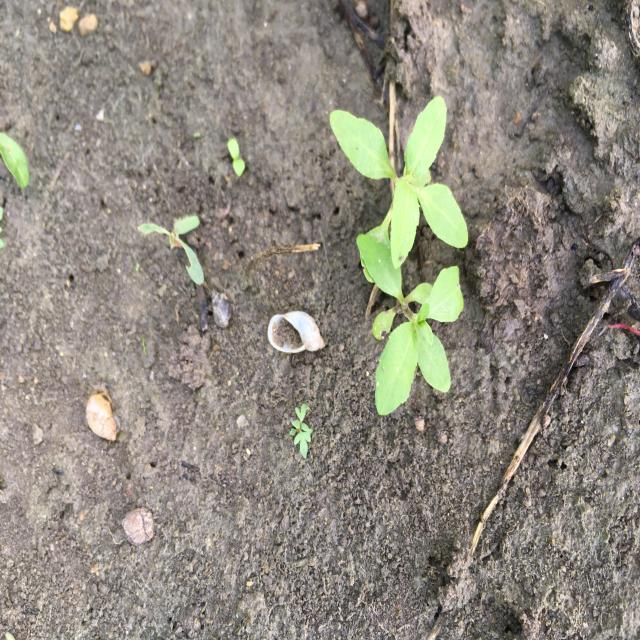Eclipta: (328, 96, 469, 284), (354, 234, 466, 416)
